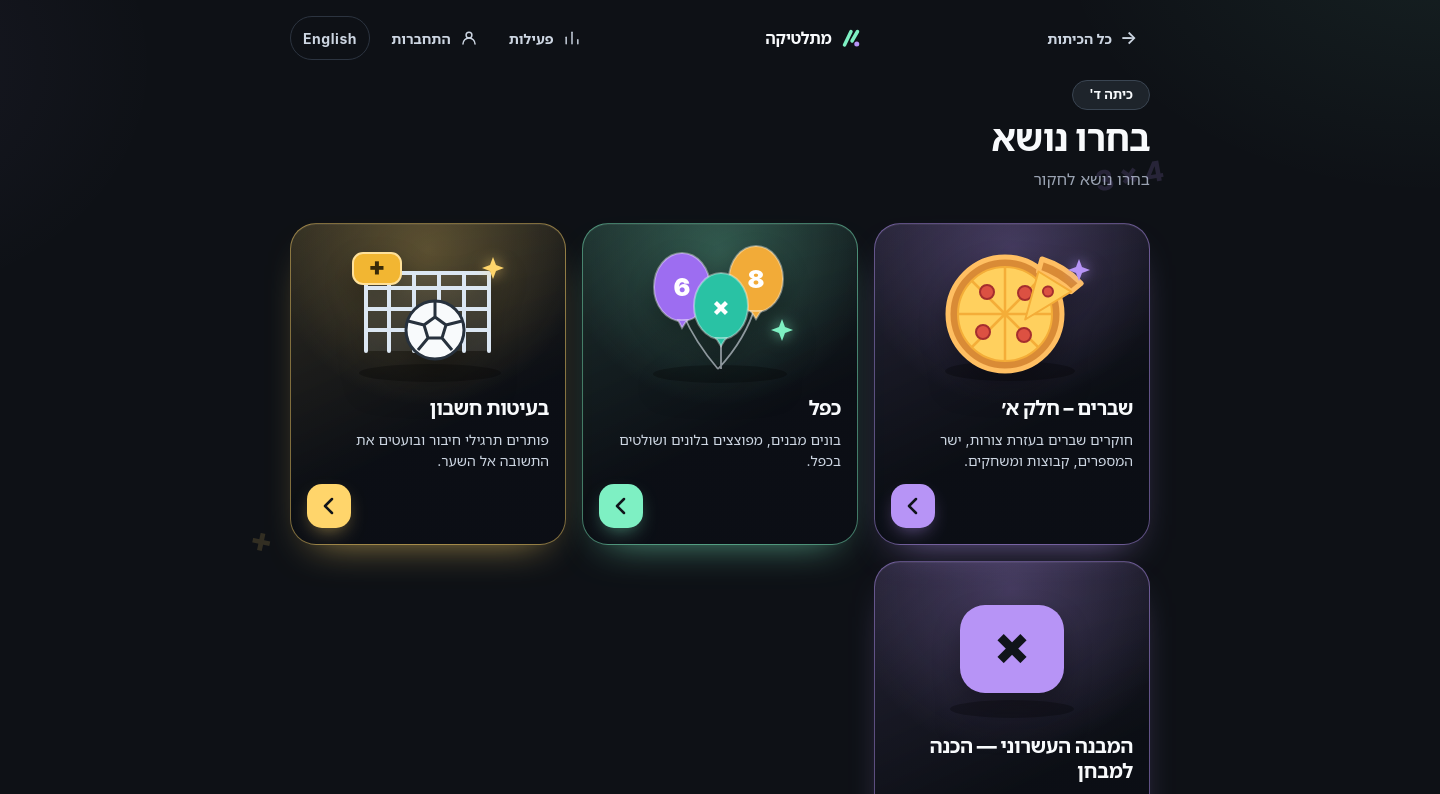
Test: Mathletica shell › keeps the penalty shootout reachable from its grade page
What coordinates should you click on to do the following:
click the link "בעיטות חשבון"
I would click on:
 (428, 384)
Its box is [290,223,566,545].
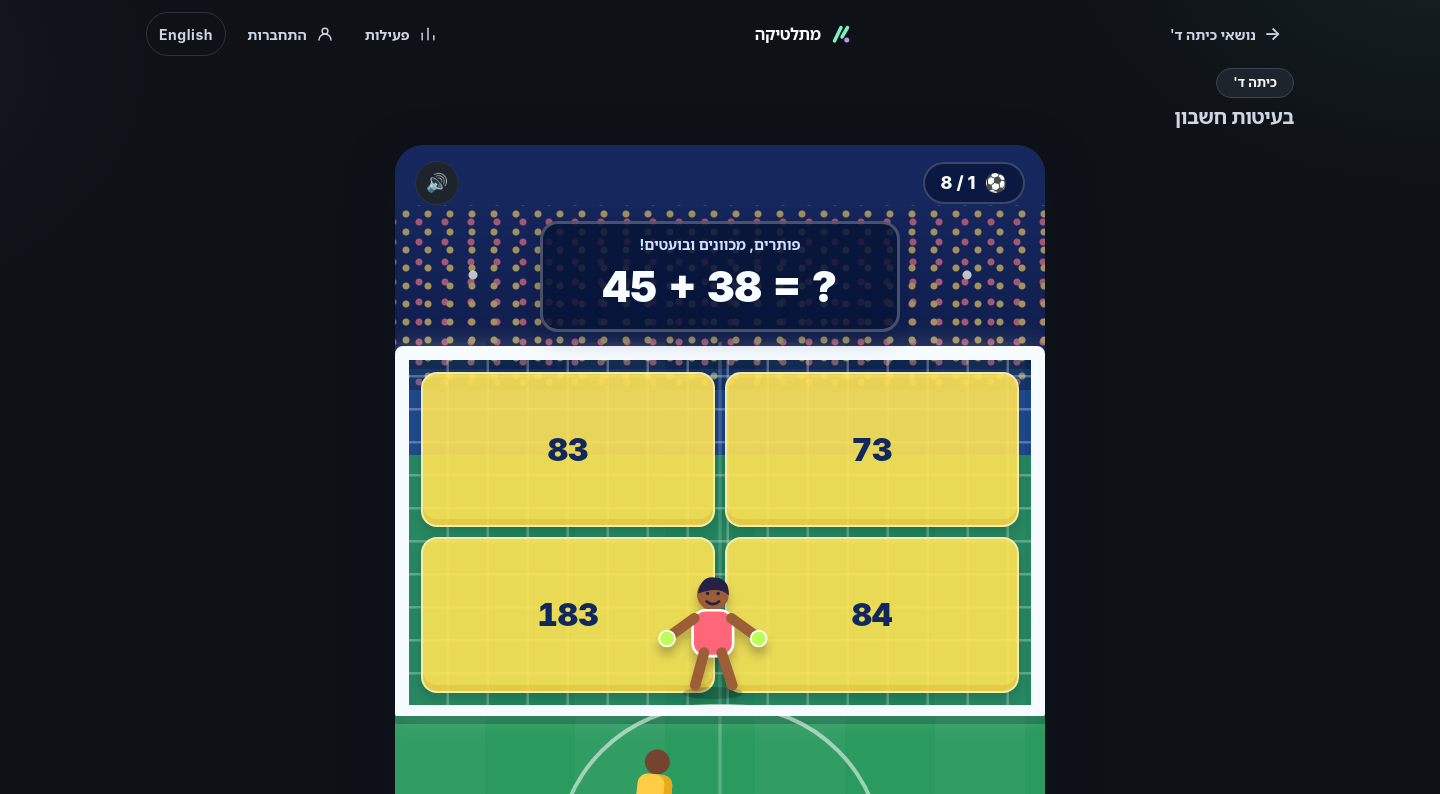
Check: the heading reads "בעיטות חשבון", box [1174,104,1294,128]
